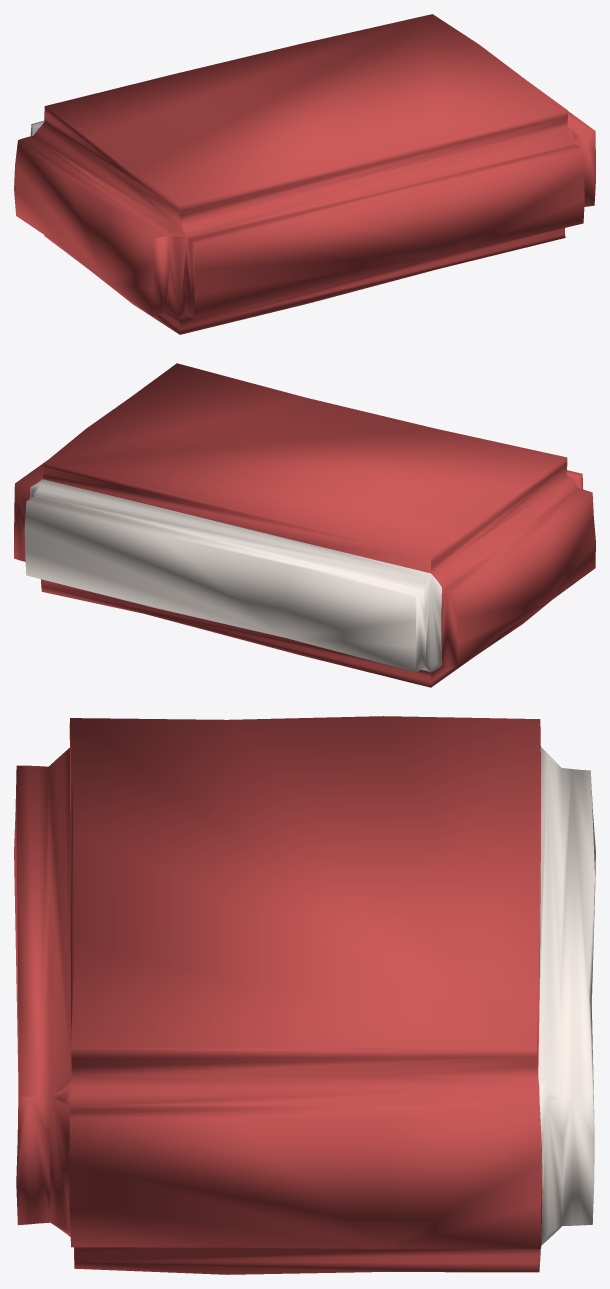
Rendered from Beef.fbx.
The picture shows the model from 3 angles, top to bottom: view 1: azimuth 30°, elevation 25°; view 2: azimuth 150°, elevation 25°; view 3: azimuth 270°, elevation 25°; orthographic projection. The views are drawn at different scales.
Parts seen in each view (by area): view 1: Beef; view 2: Beef; view 3: Beef.
Part boxes in pixels (left/top/right/bottom): Beef: left=14, top=14, right=595, bottom=334; Beef: left=14, top=363, right=595, bottom=687; Beef: left=14, top=716, right=595, bottom=1274.
Size of the model in its own units: 0.1009 by 0.0288 by 0.0659.
